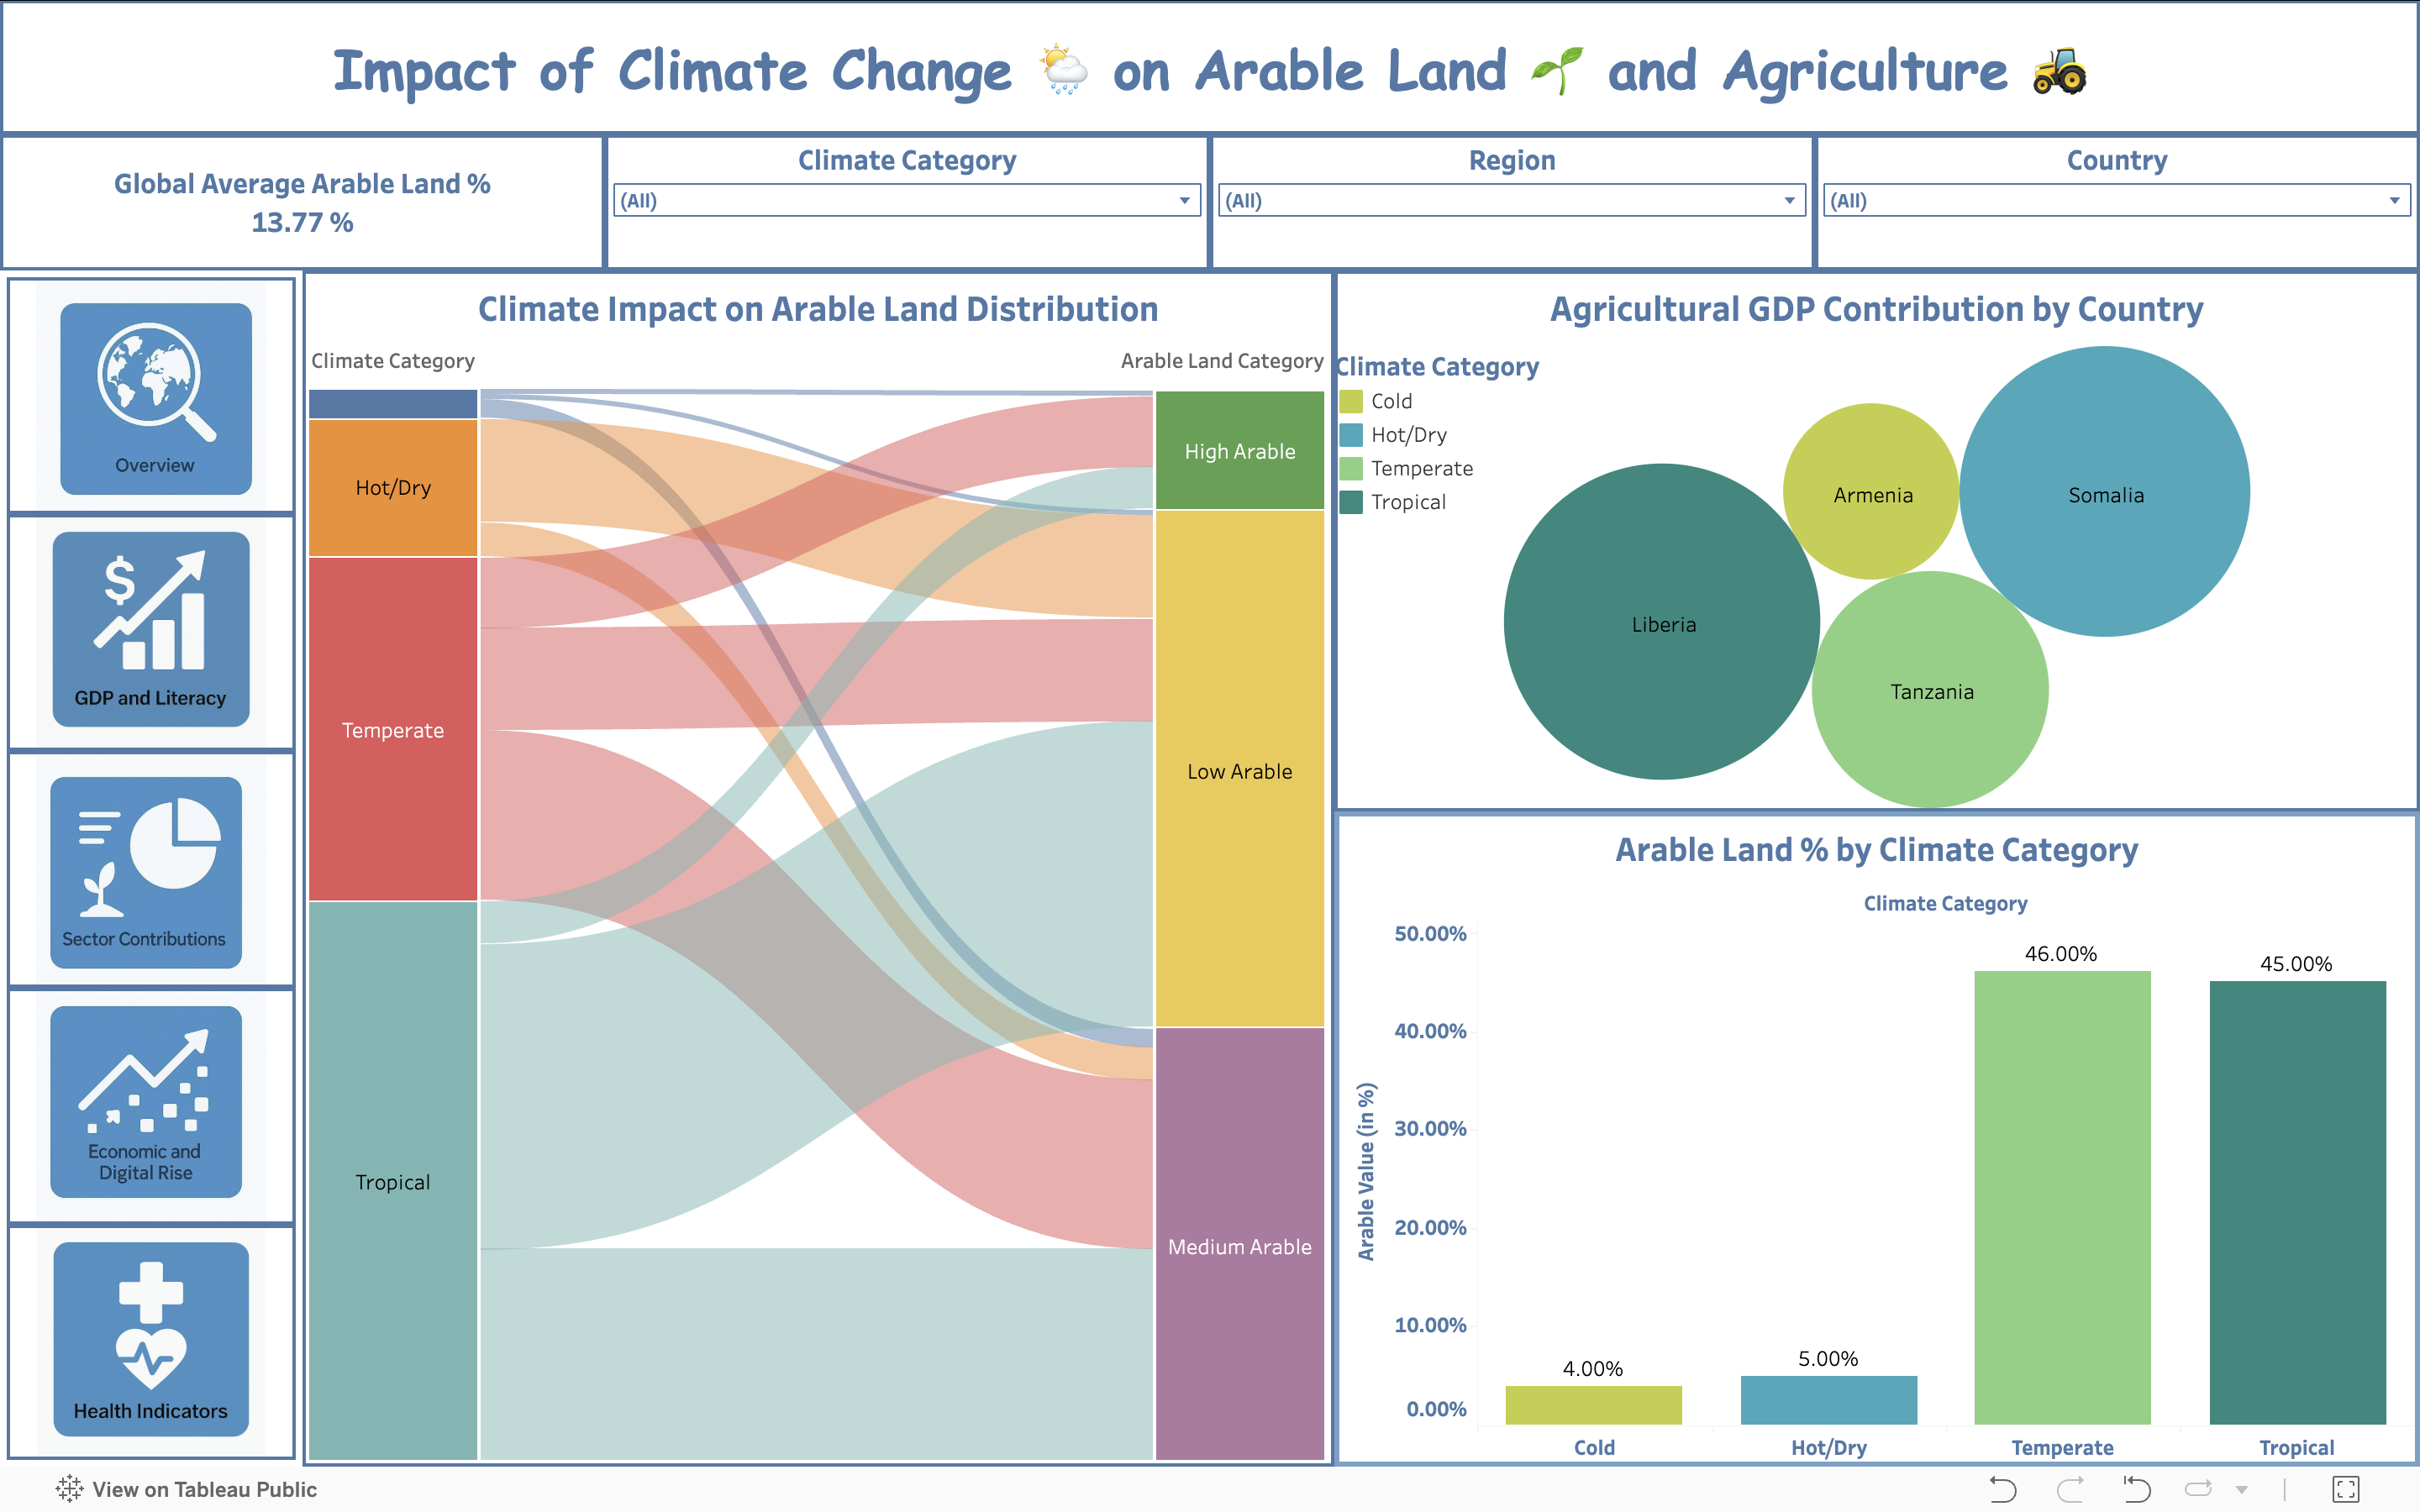

The page's visual inventory and layout, read from the dashboard file:
{"tool":"tableau","page":{"name":"D4-Climate&Agriculture","canvas":[1000,1000],"units":"permille","ordinal":3},"visuals":[{"type":"text","box":[0,0,1000,92]},{"type":"filter","title":"Agr GDP Contribution","param":"[federated.1gurpxn0cy5wmh1alyhjo01n5pxg].[none:Calculation_1139692184153042946:n","box":[250,92,250,92]},{"type":"filter","title":"Climate Imp-Sanky Diag","param":"[federated.1gurpxn0cy5wmh1alyhjo01n5pxg].[none:region:nk]","box":[500,92,250,92]},{"type":"filter","title":"Arable Land by Climate","param":"[federated.1gurpxn0cy5wmh1alyhjo01n5pxg].[none:country:nk]","box":[750,92,250,92]},{"type":"worksheet","title":"KPI- Global Avg Arable Land","mark":"Automatic","box":[1.6,95,246.8,86.1]},{"type":"worksheet","title":"Climate Imp-Sanky Diag","box":[124.9,184,426.7,816]},{"type":"worksheet","title":"Agr GDP Contribution","mark":"Circle","box":[551.6,184,448.4,369.2]},{"type":"dashboard-object","box":[3.2,189.3,118.7,161.2]},{"type":"legend","title":"Agr GDP Contribution","param":"[federated.1gurpxn0cy5wmh1alyhjo01n5pxg].[none:Calculation_1139692184153042946:n","box":[551.6,237.3,120.6,176.4]},{"type":"dashboard-object","box":[3.2,350.6,118.7,161.2]},{"type":"dashboard-object","box":[3.2,511.8,118.7,161.2]},{"type":"worksheet","title":"Arable Land by Climate","mark":"Automatic","rows":["Calculation_1139692184154857477"],"cols":["Calculation_1139692184153042946"],"box":[551.6,553.2,448.4,446.8]},{"type":"dashboard-object","box":[3.2,673.1,118.7,161.2]},{"type":"dashboard-object","box":[3.2,834.3,118.7,159.8]}]}

Visuals, with their boxes on the dashboard's canvas, which has no fixed pixel size, in thousandths of its width and height (x1, y1, x2, y2). These are canvas units, not pixel positions in the 2420x1512 screenshot, which may show the page scaled, cropped or inside an application window:
text: {"left": 0, "top": 0, "right": 1000, "bottom": 92}
"Agr GDP Contribution" filter: {"left": 250, "top": 92, "right": 500, "bottom": 184}
"Climate Imp-Sanky Diag" filter: {"left": 500, "top": 92, "right": 750, "bottom": 184}
"Arable Land by Climate" filter: {"left": 750, "top": 92, "right": 1000, "bottom": 184}
"KPI- Global Avg Arable Land" worksheet: {"left": 2, "top": 95, "right": 248, "bottom": 181}
"Climate Imp-Sanky Diag" worksheet: {"left": 125, "top": 184, "right": 552, "bottom": 1000}
"Agr GDP Contribution" worksheet (Circle marks): {"left": 552, "top": 184, "right": 1000, "bottom": 553}
dashboard-object: {"left": 3, "top": 189, "right": 122, "bottom": 350}
"Agr GDP Contribution" legend: {"left": 552, "top": 237, "right": 672, "bottom": 414}
dashboard-object: {"left": 3, "top": 351, "right": 122, "bottom": 512}
dashboard-object: {"left": 3, "top": 512, "right": 122, "bottom": 673}
"Arable Land by Climate" worksheet: {"left": 552, "top": 553, "right": 1000, "bottom": 1000}
dashboard-object: {"left": 3, "top": 673, "right": 122, "bottom": 834}
dashboard-object: {"left": 3, "top": 834, "right": 122, "bottom": 994}
